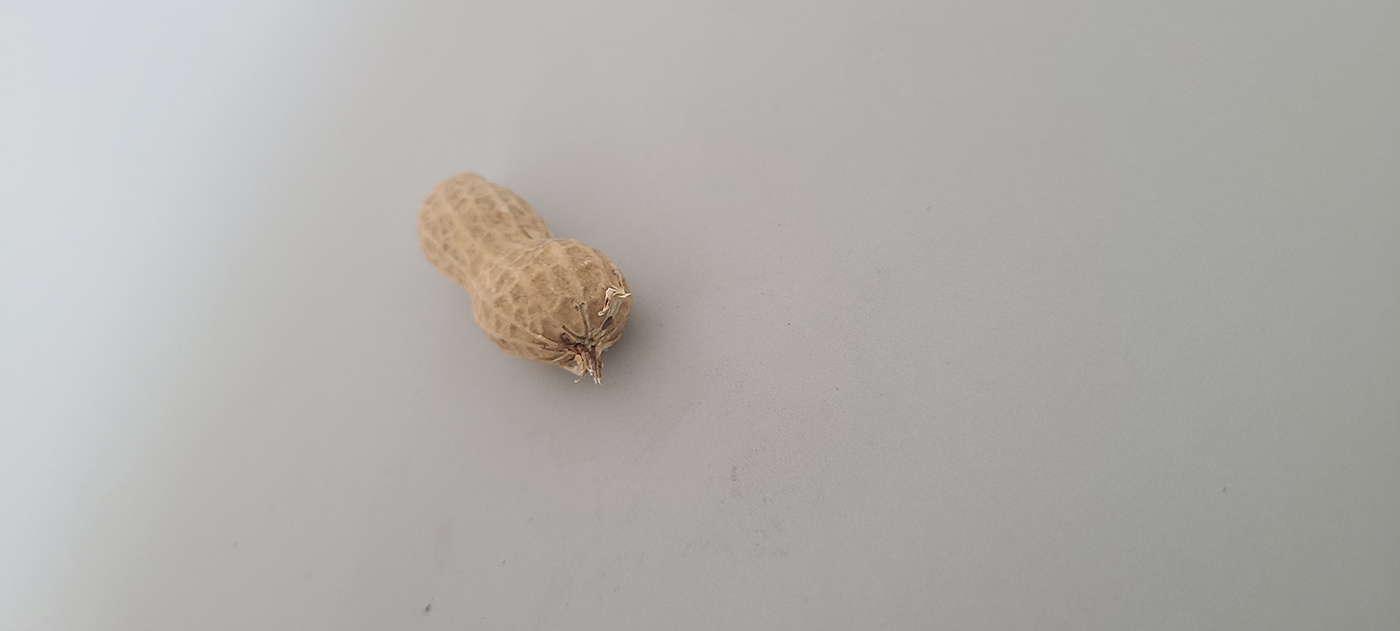h: (415, 167, 632, 368)
